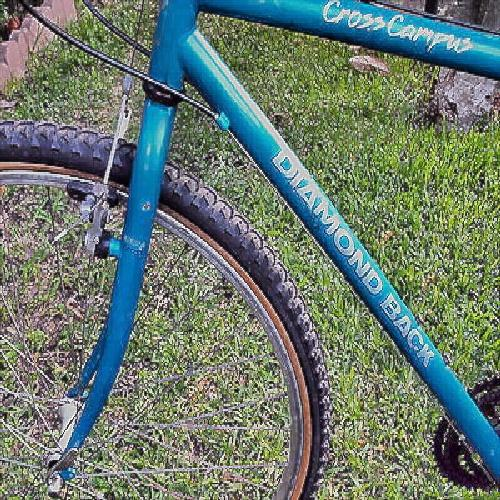bicycle: (30, 21, 475, 466)
